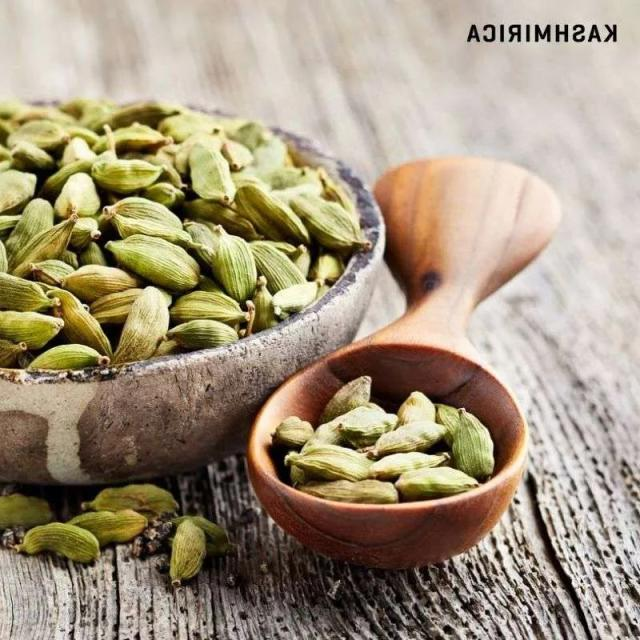Cardamom: (0, 90, 360, 366), (270, 376, 492, 504), (0, 475, 179, 570), (160, 504, 240, 589)
